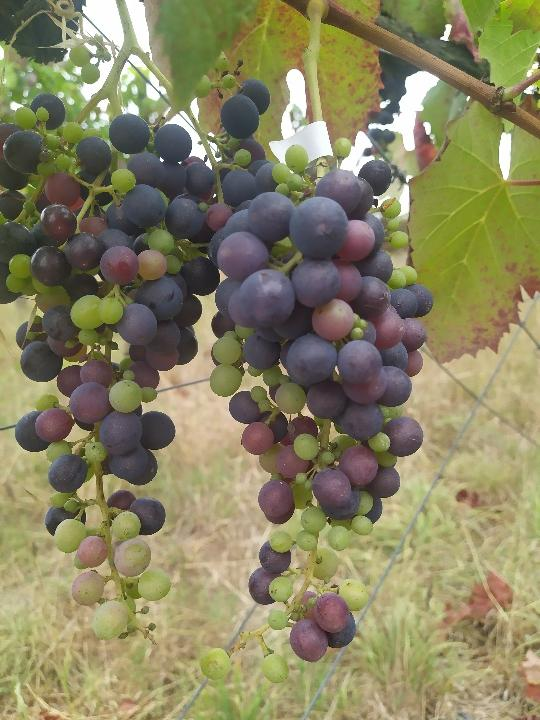grape: (2, 47, 271, 643), (196, 137, 436, 685)
